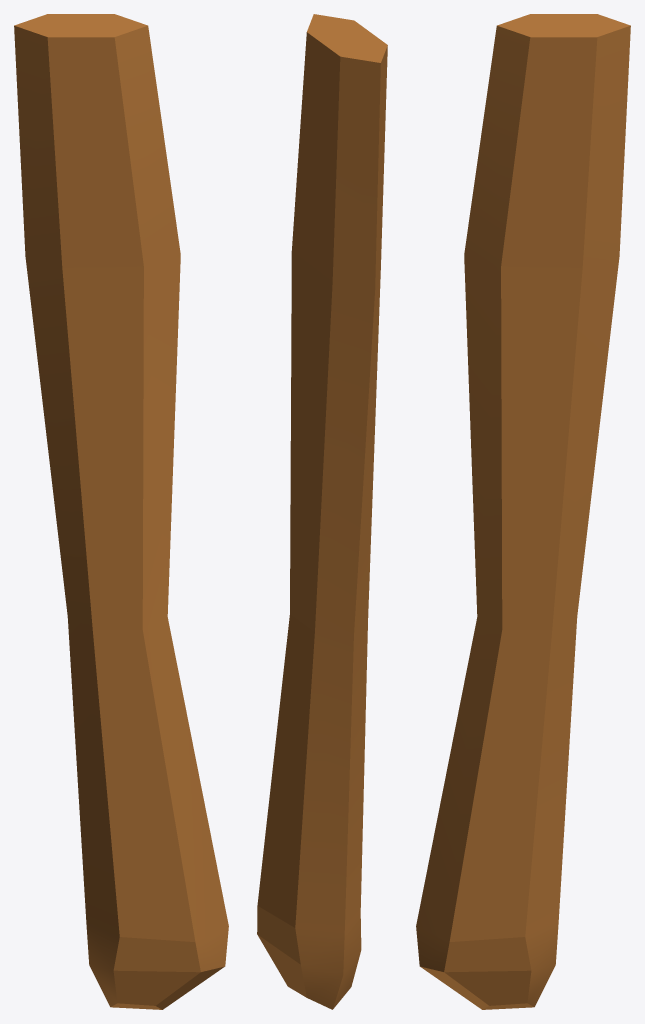
File: Hatchet_Lumber_Handle.glb
The picture shows the model from 3 angles, left to right: view 1: azimuth 90°, elevation 25°; view 2: azimuth 210°, elevation 25°; view 3: azimuth 270°, elevation 25°; orthographic projection.
Visible parts, largest first — view 1: Hatchet_Lumber_Handle; view 2: Hatchet_Lumber_Handle; view 3: Hatchet_Lumber_Handle.
Boxes of the visible parts, x1,y1,x2,y2 form: Hatchet_Lumber_Handle: [14, 14, 228, 1009]; Hatchet_Lumber_Handle: [257, 14, 387, 1009]; Hatchet_Lumber_Handle: [416, 14, 630, 1009].
Size of the model in its own units: 0.0282 by 0.4055 by 0.0802.
